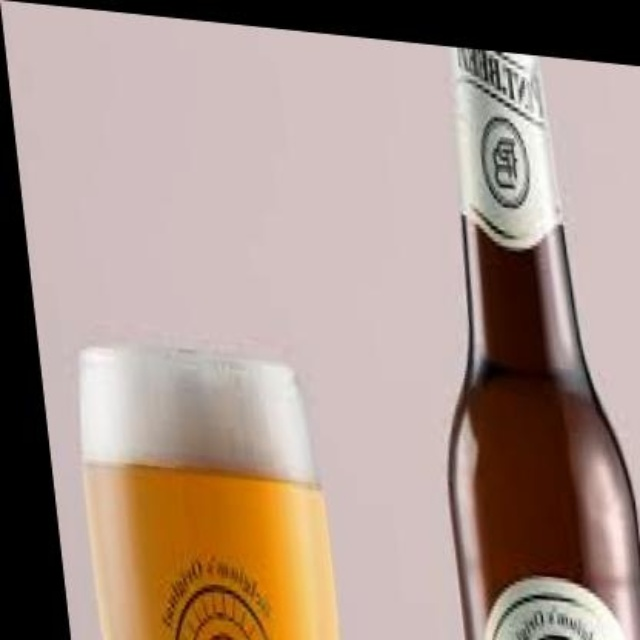trash: (449, 49, 638, 638), (78, 343, 337, 638)
